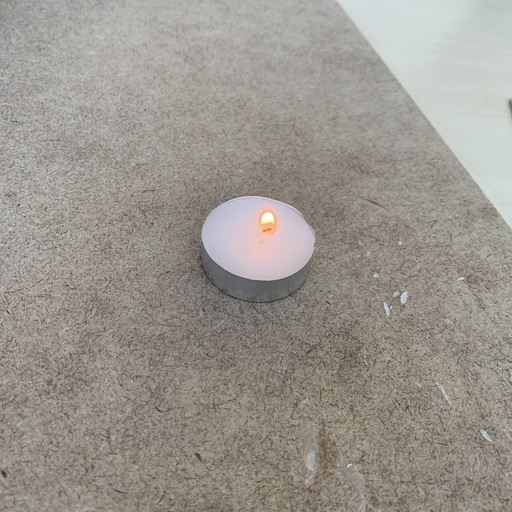fire: (251, 205, 278, 237)
